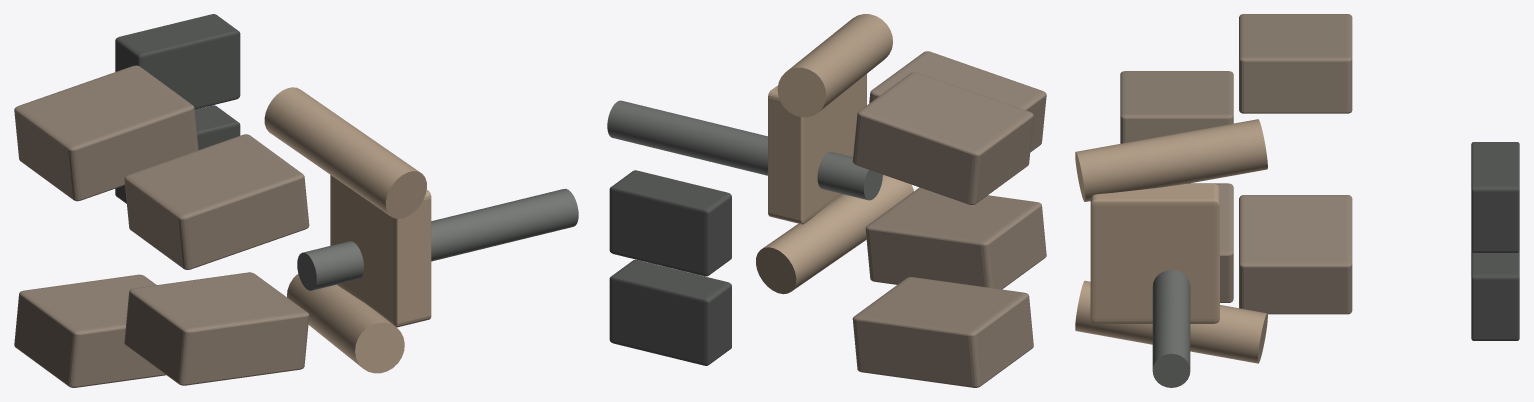
File: d-u07-dominion-infiltrator-lod2.glb
The picture shows the model from 3 angles, left to right: view 1: azimuth 30°, elevation 25°; view 2: azimuth 150°, elevation 25°; view 3: azimuth 270°, elevation 25°; orthographic projection. The views are drawn at different scales.
Parts seen in each view (by area): view 1: cloak_1_1, cloak_1_3, cloak_-1_1, cloak_-1_3, soldier_0_chest, soldier_0_arm_1, soldier_0_rifle, soldier_0_boot_1, soldier_0_arm_-1, soldier_0_boot_-1; view 2: cloak_1_3, cloak_-1_3, cloak_-1_1, soldier_0_boot_1, soldier_0_boot_-1, soldier_0_chest, soldier_0_rifle, soldier_0_arm_-1, soldier_0_arm_1, cloak_1_1; view 3: soldier_0_chest, cloak_-1_3, cloak_1_3, soldier_0_arm_1, cloak_1_1, soldier_0_boot_1, soldier_0_arm_-1, soldier_0_boot_-1, soldier_0_rifle, cloak_-1_1.
Part boxes in pixels (<box>): cloak_1_1: <box>124,134,309,269</box>; cloak_1_3: <box>14,65,198,201</box>; cloak_-1_1: <box>124,272,309,385</box>; cloak_-1_3: <box>14,274,165,387</box>; soldier_0_chest: <box>330,175,431,327</box>; soldier_0_arm_1: <box>264,87,426,218</box>; soldier_0_rifle: <box>297,188,578,290</box>; soldier_0_boot_1: <box>115,14,240,109</box>; soldier_0_arm_-1: <box>287,274,404,373</box>; soldier_0_boot_-1: <box>115,105,240,203</box>; cloak_1_3: <box>852,72,1033,204</box>; cloak_-1_3: <box>852,277,1033,387</box>; cloak_-1_1: <box>865,187,1046,289</box>; soldier_0_boot_1: <box>609,170,731,276</box>; soldier_0_boot_-1: <box>609,259,731,365</box>; soldier_0_chest: <box>768,74,866,224</box>; soldier_0_rifle: <box>607,100,882,200</box>; soldier_0_arm_-1: <box>756,175,913,294</box>; soldier_0_arm_1: <box>777,14,892,117</box>; cloak_1_1: <box>869,51,1046,152</box>; soldier_0_chest: <box>1090,184,1219,323</box>; cloak_-1_3: <box>1239,195,1352,314</box>; cloak_1_3: <box>1239,14,1352,113</box>; soldier_0_arm_1: <box>1075,119,1267,201</box>; cloak_1_1: <box>1120,71,1233,143</box>; soldier_0_boot_1: <box>1471,142,1519,252</box>; soldier_0_arm_-1: <box>1075,280,1267,363</box>; soldier_0_boot_-1: <box>1471,251,1519,340</box>; soldier_0_rifle: <box>1152,270,1190,387</box>; cloak_-1_1: <box>1187,183,1233,302</box>.
Size of what is drawn, in the model's own units: 1.91 by 1.05 by 1.65.
